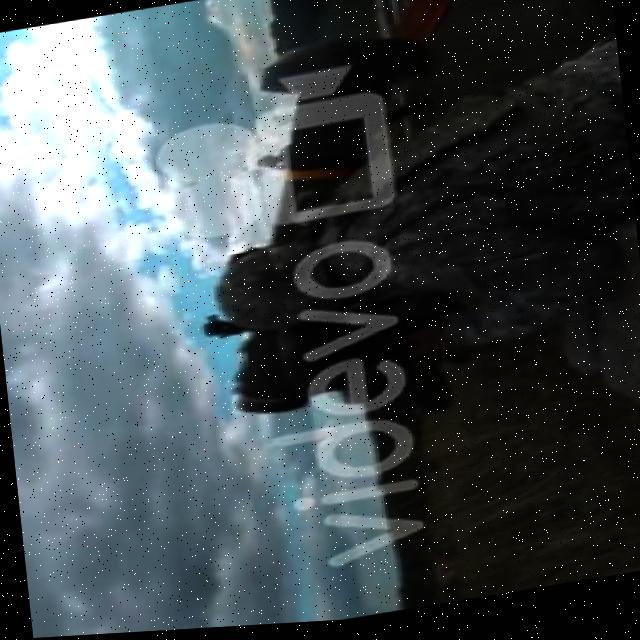rocket: (188, 30, 456, 426)
